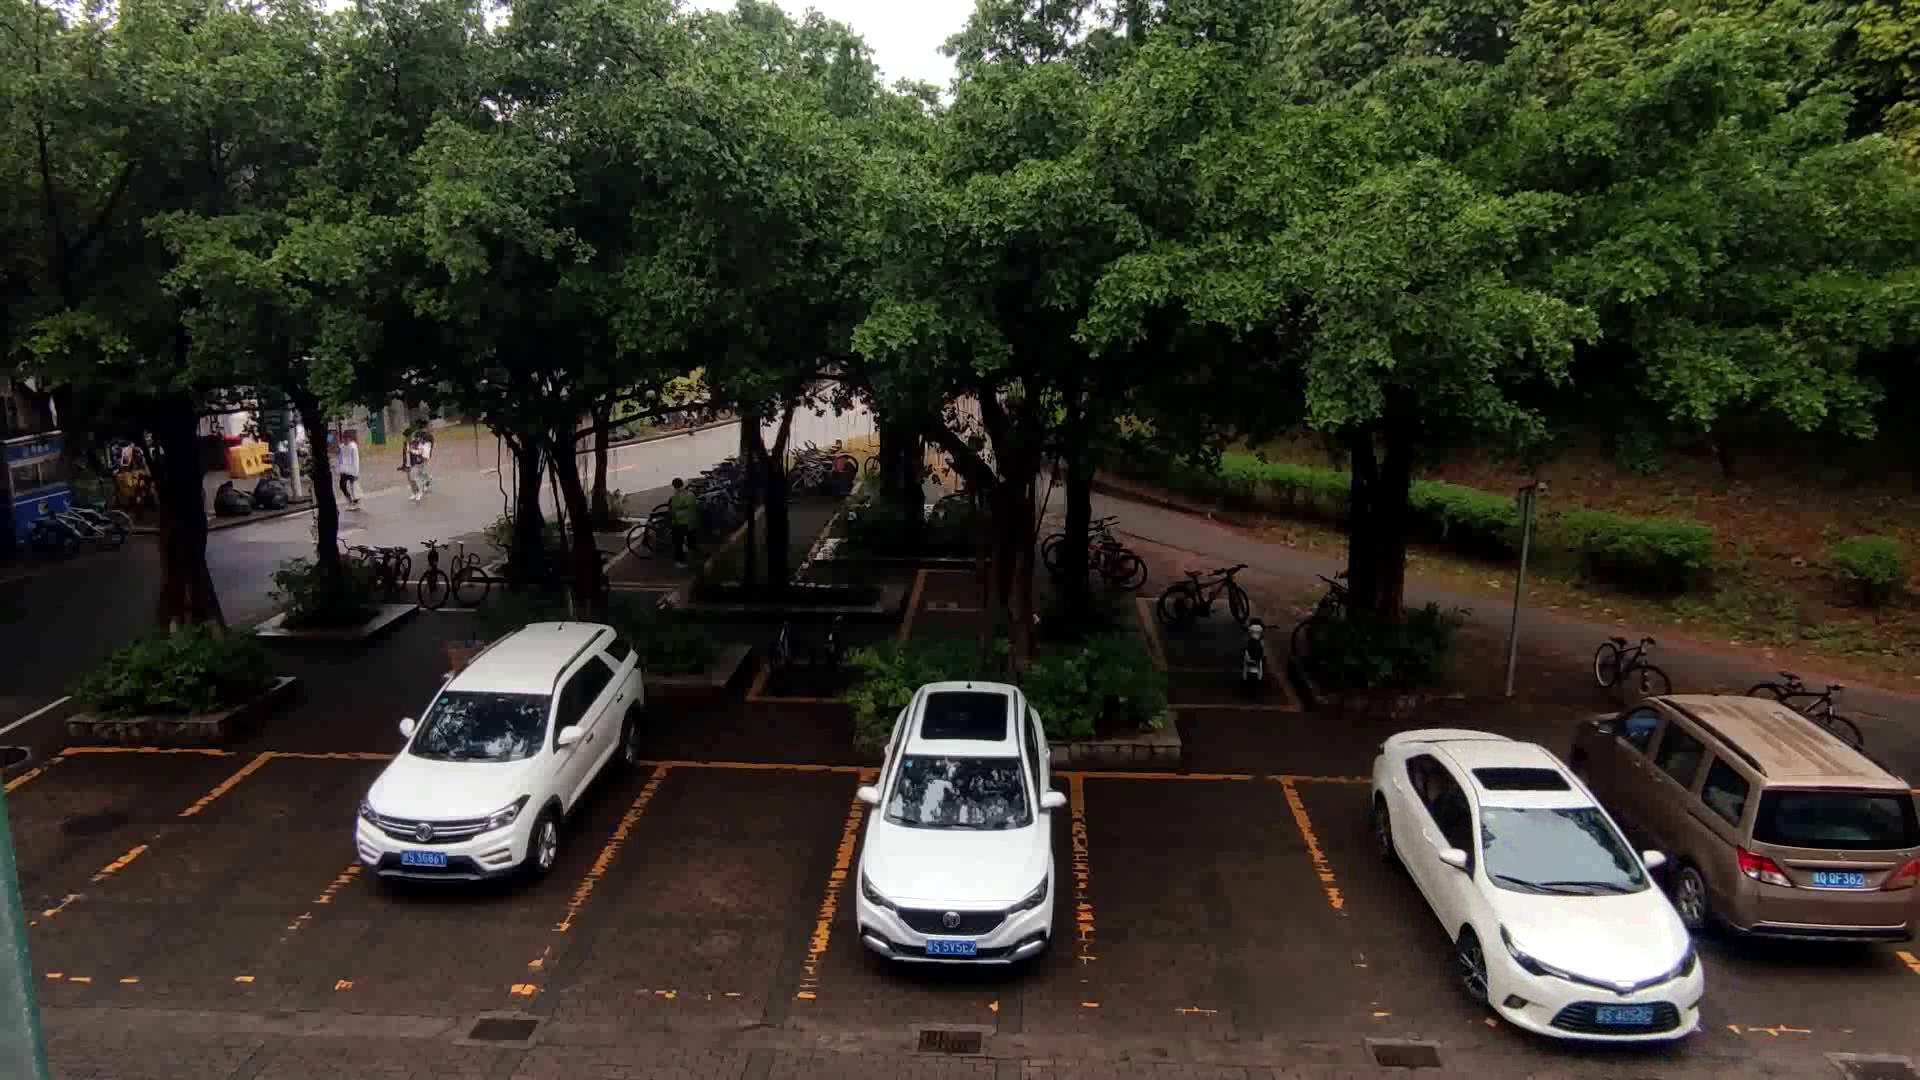space-empty: (527, 757, 884, 1011), (1062, 771, 1375, 1043), (45, 735, 380, 986)
space-occupied: (1280, 781, 1689, 1052), (244, 754, 658, 1011), (1553, 771, 1903, 1044), (794, 767, 1127, 1029)
